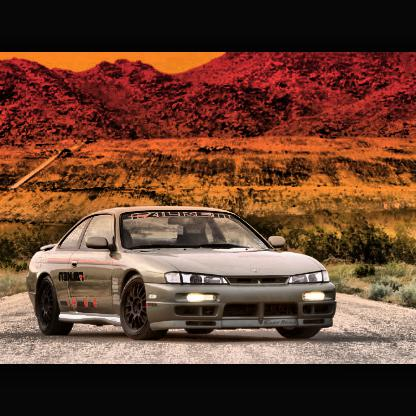Nissan 240SX Coupe 1998: (29, 207, 335, 342)
